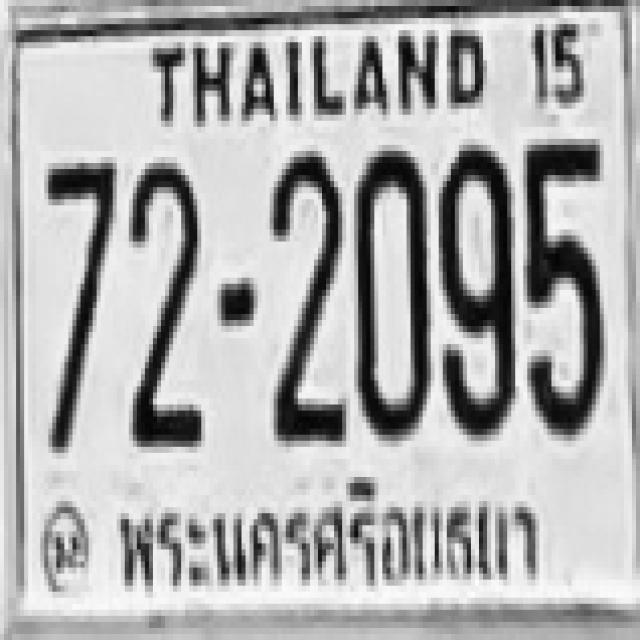0: (354, 145, 427, 435)
2: (270, 145, 342, 441), (127, 157, 199, 441), (270, 145, 342, 417)
5: (523, 133, 600, 429)
7: (44, 157, 113, 447), (44, 157, 113, 350)
9: (437, 139, 513, 429)
Ayutthaya: (102, 470, 548, 601)
